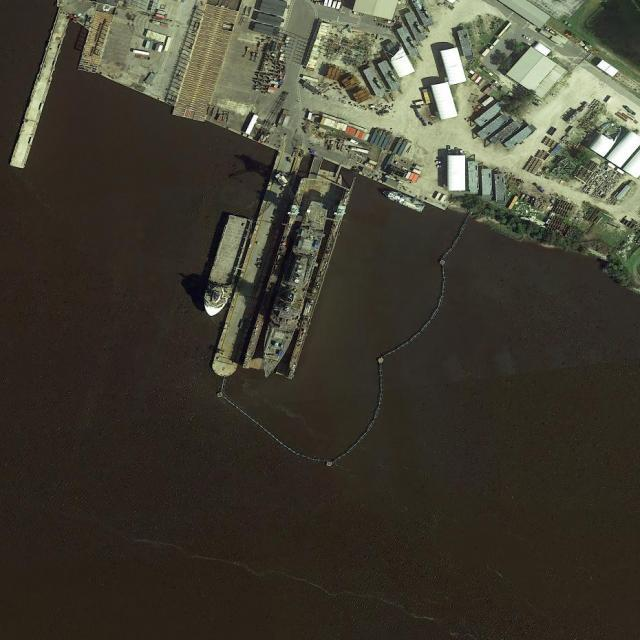Destroyer: (250, 200, 335, 383)
Dock: (209, 148, 305, 378), (9, 6, 74, 168)
Other Ship: (197, 212, 255, 321)
